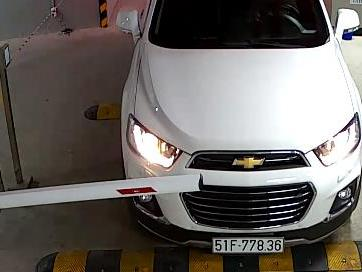car: (212, 236, 286, 256)
